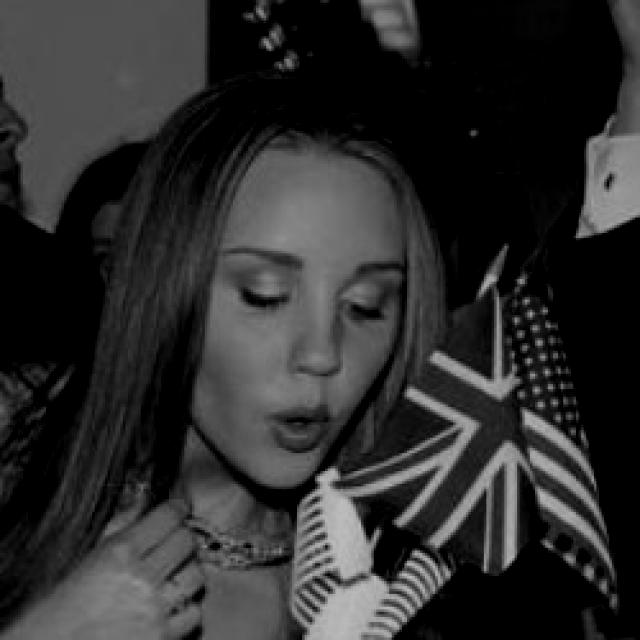real: (168, 140, 406, 496), (232, 270, 399, 332)
